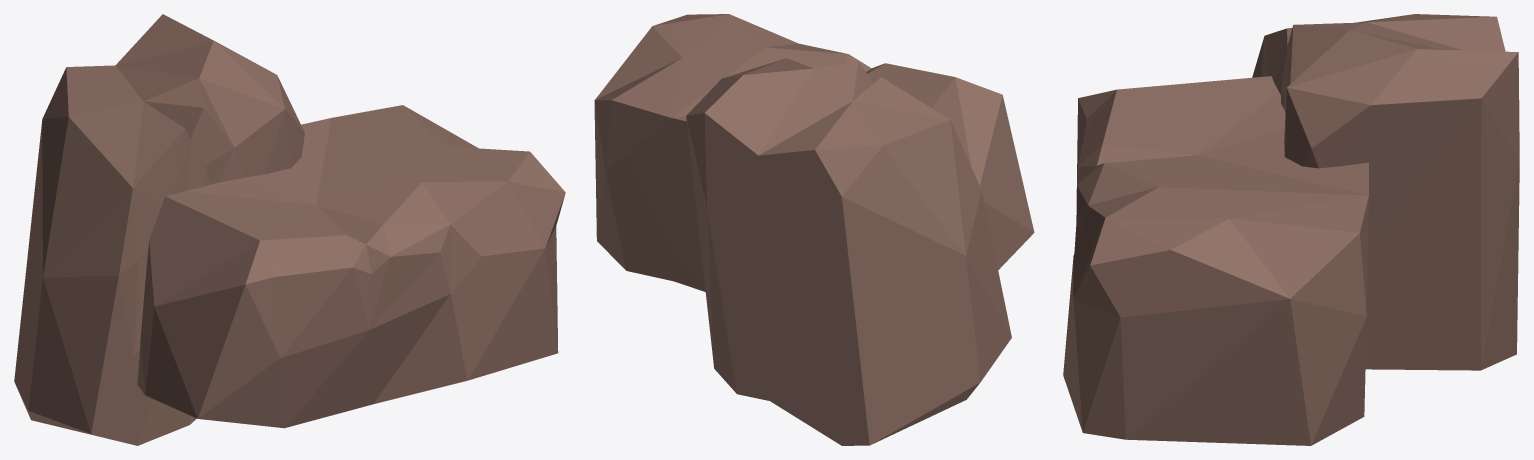
Rendered from rock_003.fbx.
3 views of the same model, side by side, from view 1: azimuth 30°, elevation 25°; view 2: azimuth 150°, elevation 25°; view 3: azimuth 270°, elevation 25° (orthographic). The views are drawn at different scales.
Parts seen in each view (by area): view 1: rock.003; view 2: rock.003; view 3: rock.003.
Boxes of the visible parts, left/top/right/bottom form: rock.003: left=14, top=14, right=565, bottom=445; rock.003: left=594, top=14, right=1034, bottom=445; rock.003: left=1063, top=14, right=1519, bottom=445.
Bounding box in the file's own units: 2338 × 1710 × 1930.
1 material, 1 textured.
